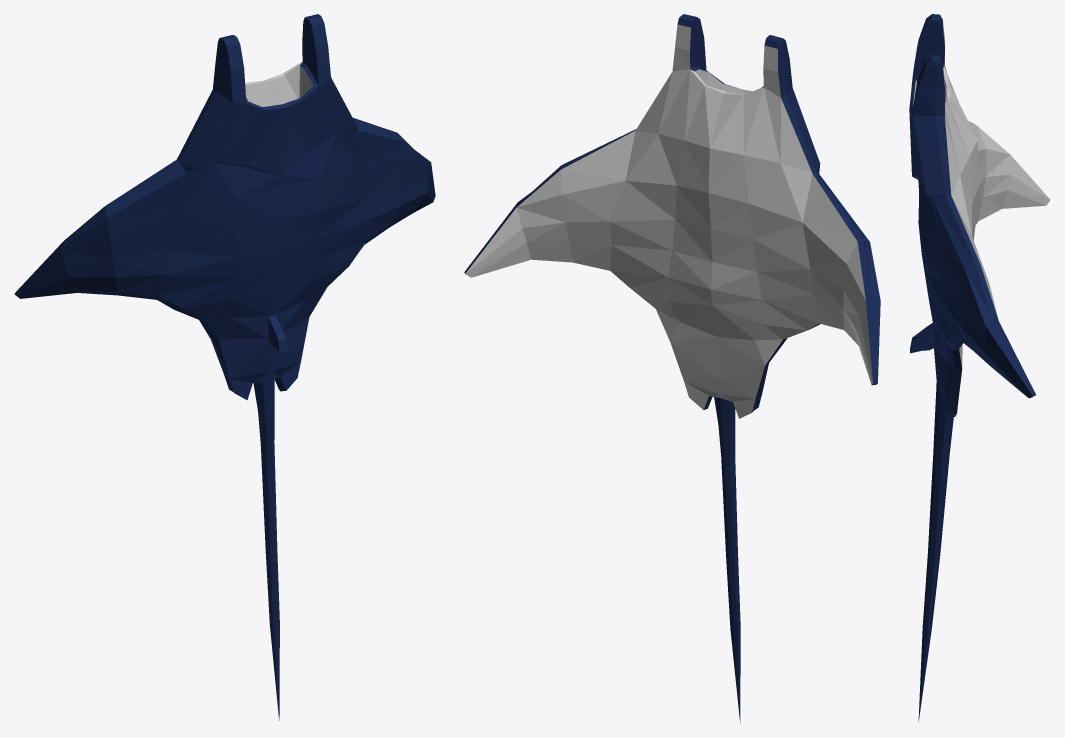
The model's file is Manta ray.obj.
3 views of the same model, side by side, from view 1: azimuth 30°, elevation 25°; view 2: azimuth 150°, elevation 25°; view 3: azimuth 270°, elevation 25° (orthographic). The views are drawn at different scales.
Parts seen in each view (by area): view 1: MantaRay; view 2: MantaRay; view 3: MantaRay.
Part boxes in pixels (x1,y1,x2,y2): MantaRay: [14, 14, 435, 720]; MantaRay: [464, 14, 880, 722]; MantaRay: [909, 14, 1050, 721].
Size of the model in its own units: 7.34 by 11.71 by 2.19.
